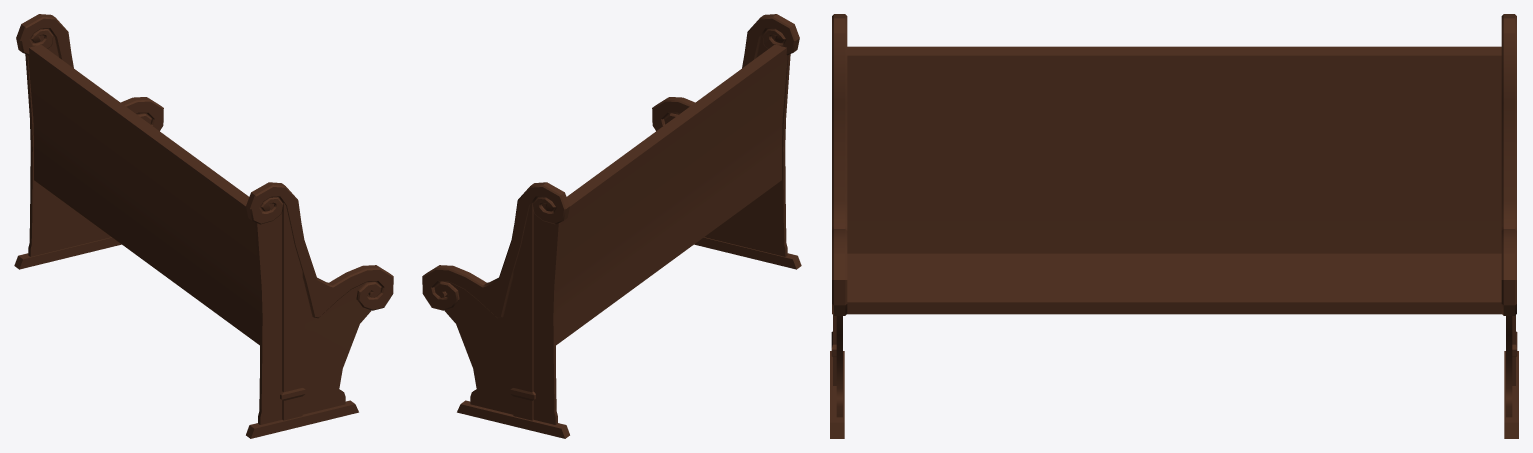
Rendered from Bench 1.fbx.
3 views of the same model, side by side, from view 1: azimuth 30°, elevation 25°; view 2: azimuth 150°, elevation 25°; view 3: azimuth 270°, elevation 25° (orthographic). The views are drawn at different scales.
Visible parts, largest first — view 1: CompleteNemch2; view 2: CompleteNemch2; view 3: CompleteNemch2.
Part boxes in pixels (left/top/right/bottom): CompleteNemch2: left=14, top=14, right=393, bottom=438; CompleteNemch2: left=422, top=14, right=801, bottom=438; CompleteNemch2: left=830, top=14, right=1518, bottom=438.
Bounding box in the file's own units: 0.00686 × 0.0112 × 0.0194.
